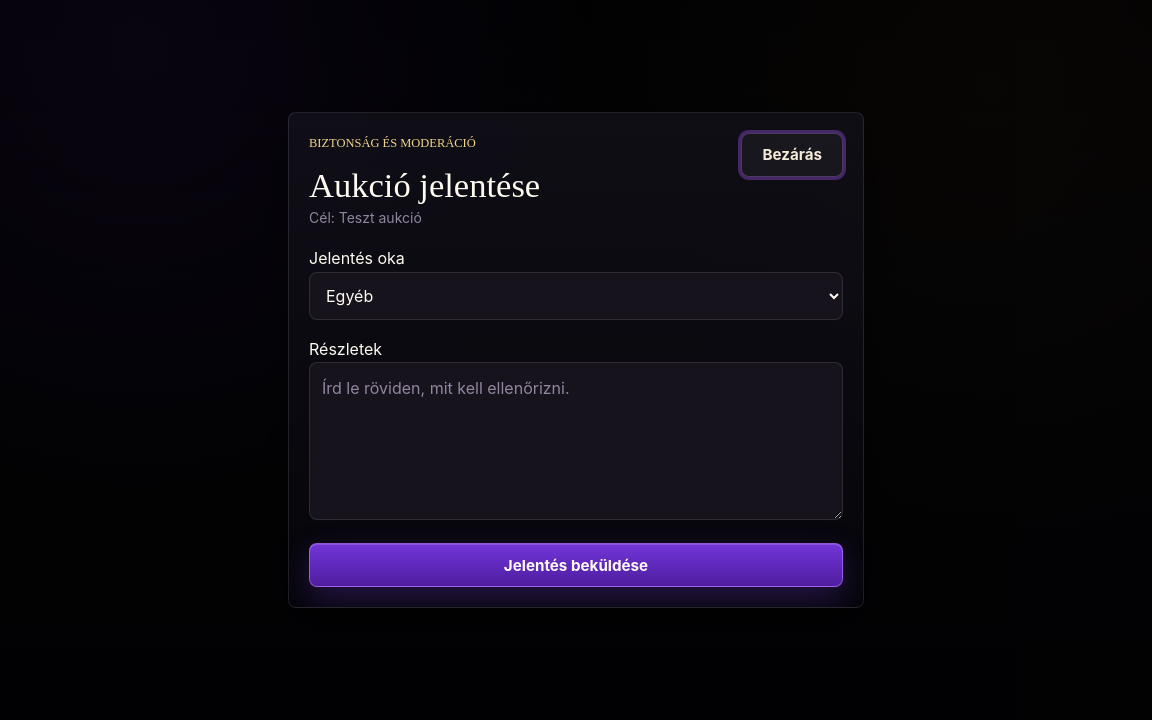
it: ReportDialog › címkézi a mezőket és magyar sikerüzenetet ad
Expected: the dropdown labelled "Jelentés oka" is shown, [309,272,843,320]
Expected: the text box labelled "Részletek" is shown, [309,362,843,520]
Click the button "Jelentés beküldése" at x=576, y=565, box [309,543,843,587]
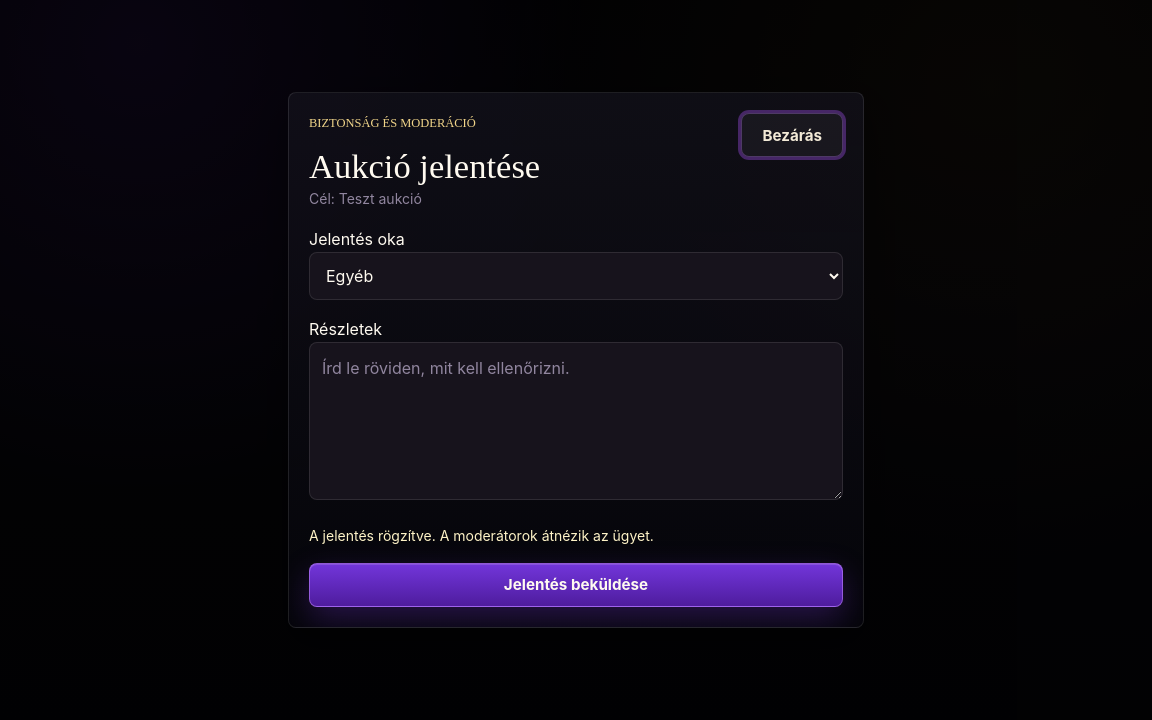
Expected: the message reads "A jelentés rögzítve. A moderátorok átnézik az ügyet.", [309,527,654,544]
